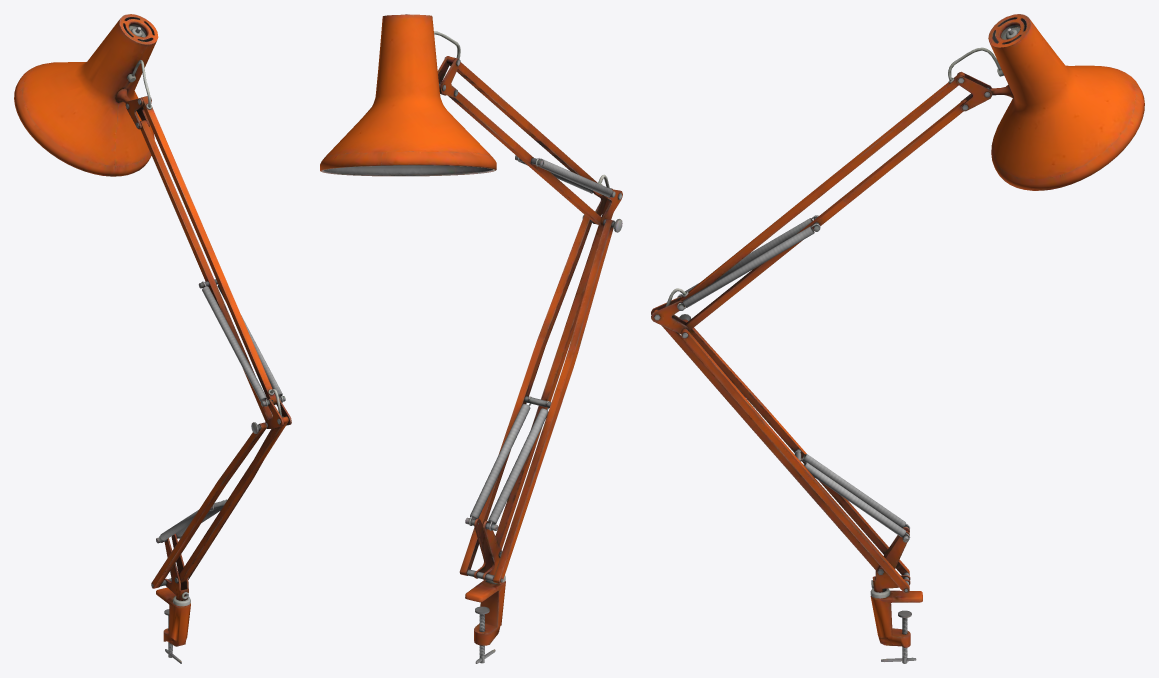
The model's file is desk_lamp_arm_01.glb.
3 views of the same model, side by side, from view 1: azimuth 30°, elevation 25°; view 2: azimuth 150°, elevation 25°; view 3: azimuth 270°, elevation 25° (orthographic). The views are drawn at different scales.
Parts seen in each view (by area): view 1: desk_lamp_arm_01; view 2: desk_lamp_arm_01; view 3: desk_lamp_arm_01.
Boxes of the visible parts, bbox=[...] form: desk_lamp_arm_01: bbox=[14, 14, 291, 663]; desk_lamp_arm_01: bbox=[320, 14, 622, 663]; desk_lamp_arm_01: bbox=[651, 14, 1144, 663].
Size of the model in its own units: 0.2017 by 0.8926 by 0.6139.
2 materials, 2 textured.
